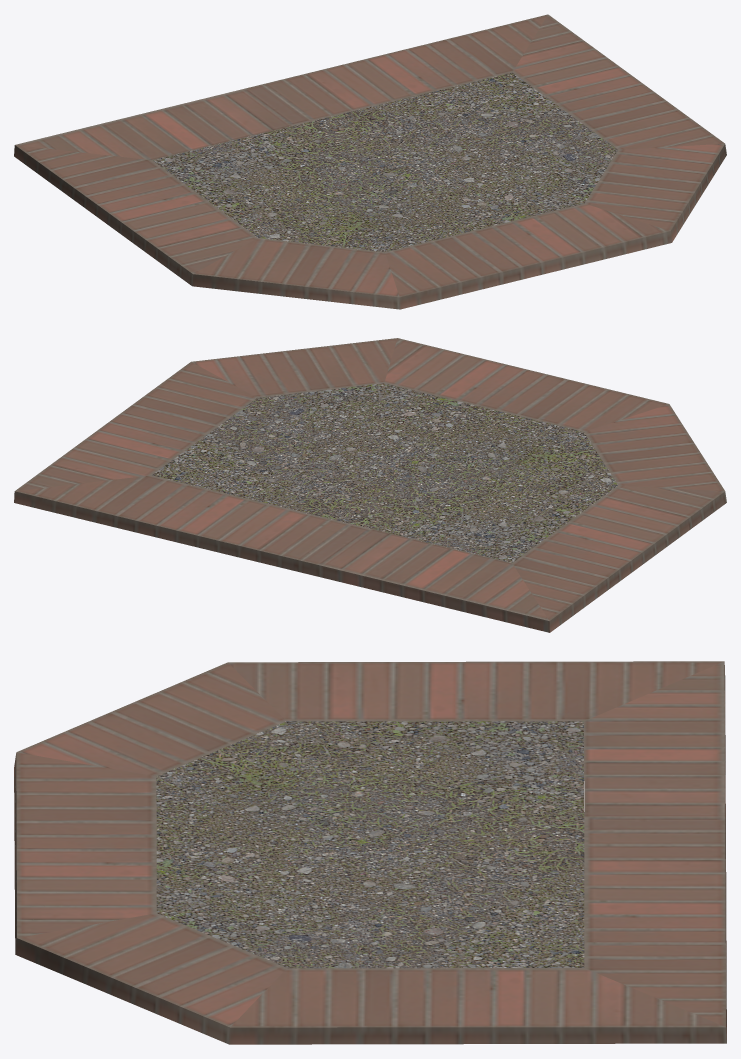
File: Preset_PlantBaseA.fbx
3 renders of one model, top to bottom at view 1: azimuth 30°, elevation 25°; view 2: azimuth 150°, elevation 25°; view 3: azimuth 270°, elevation 25°, orthographic. The views are drawn at different scales.
Parts seen in each view (by area): view 1: Brick, Grass; view 2: Brick, Grass; view 3: Brick, Grass.
Part boxes in pixels (x1,y1,x2,y2): Brick: (14,14,726,309); Grass: (153,72,617,252); Brick: (14,338,726,632); Grass: (152,383,617,562); Brick: (14,661,726,1044); Grass: (156,721,584,968).
Bounding box in the file's own units: 122 × 100 × 2.54.
Materials: 2 (2 with a texture image).
